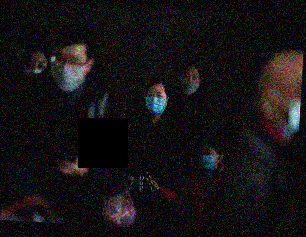with_mask: (50, 52, 87, 93), (144, 89, 167, 116), (178, 71, 201, 96), (200, 148, 217, 170)
